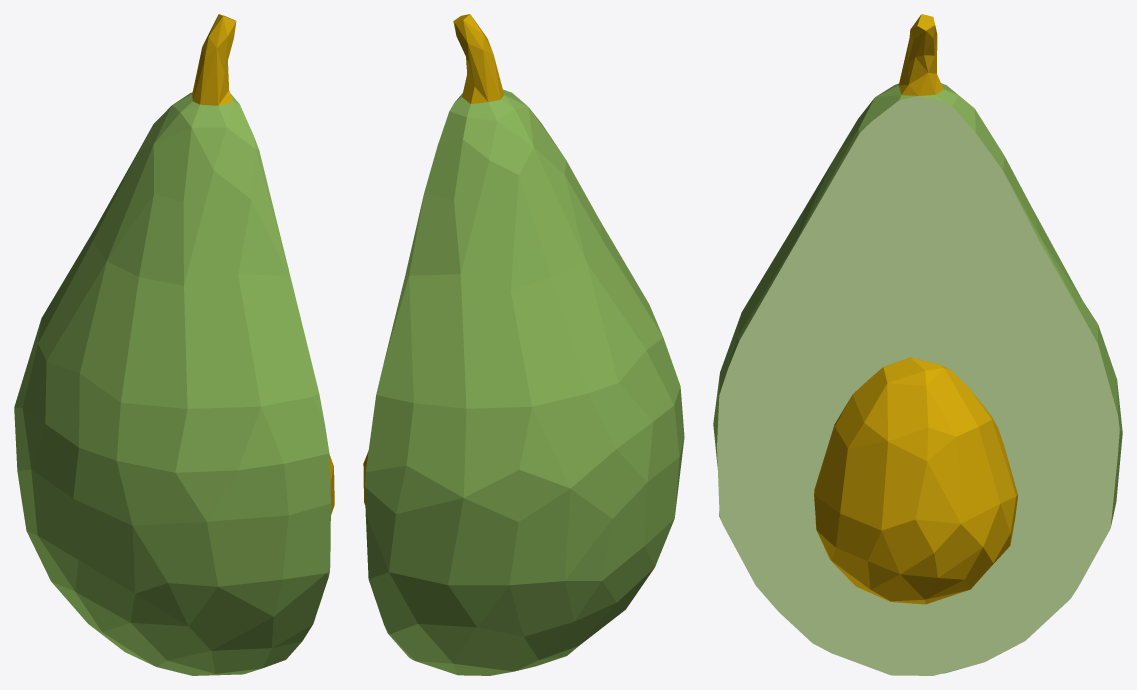
Rendered from left.fbx.
3 renders of one model, left to right at view 1: azimuth 30°, elevation 25°; view 2: azimuth 150°, elevation 25°; view 3: azimuth 270°, elevation 25°, orthographic. The views are drawn at different scales.
Visible parts, largest first — view 1: skin_left, stem; view 2: skin_left, stem; view 3: flesh_left, seed2, skin_left, stem.
Boxes of the visible parts, bbox=[...] form: skin_left: bbox=[14, 92, 330, 675]; stem: bbox=[192, 14, 236, 105]; skin_left: bbox=[365, 89, 684, 675]; stem: bbox=[453, 14, 504, 103]; flesh_left: bbox=[717, 96, 1119, 675]; seed2: bbox=[814, 357, 1018, 604]; skin_left: bbox=[713, 83, 1122, 673]; stem: bbox=[898, 14, 943, 95].
Bounding box in the file's own units: 0.4 × 0.8748 × 0.4932.
